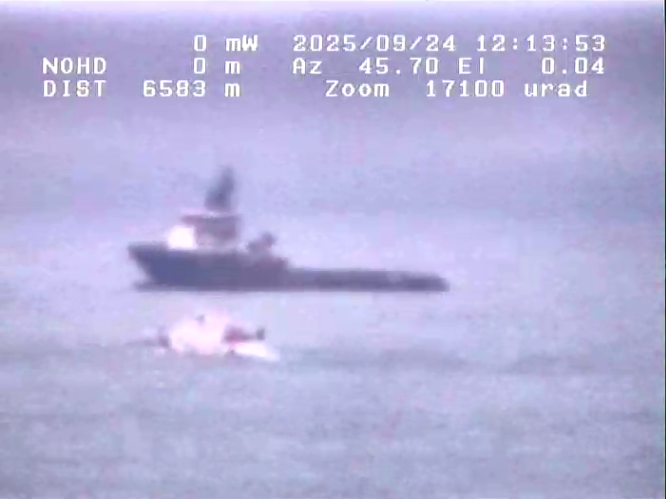OFFSHORE_SUPPLY_VESSEL: (120, 150, 471, 291)
PATROL_VESSEL: (135, 295, 298, 369)
